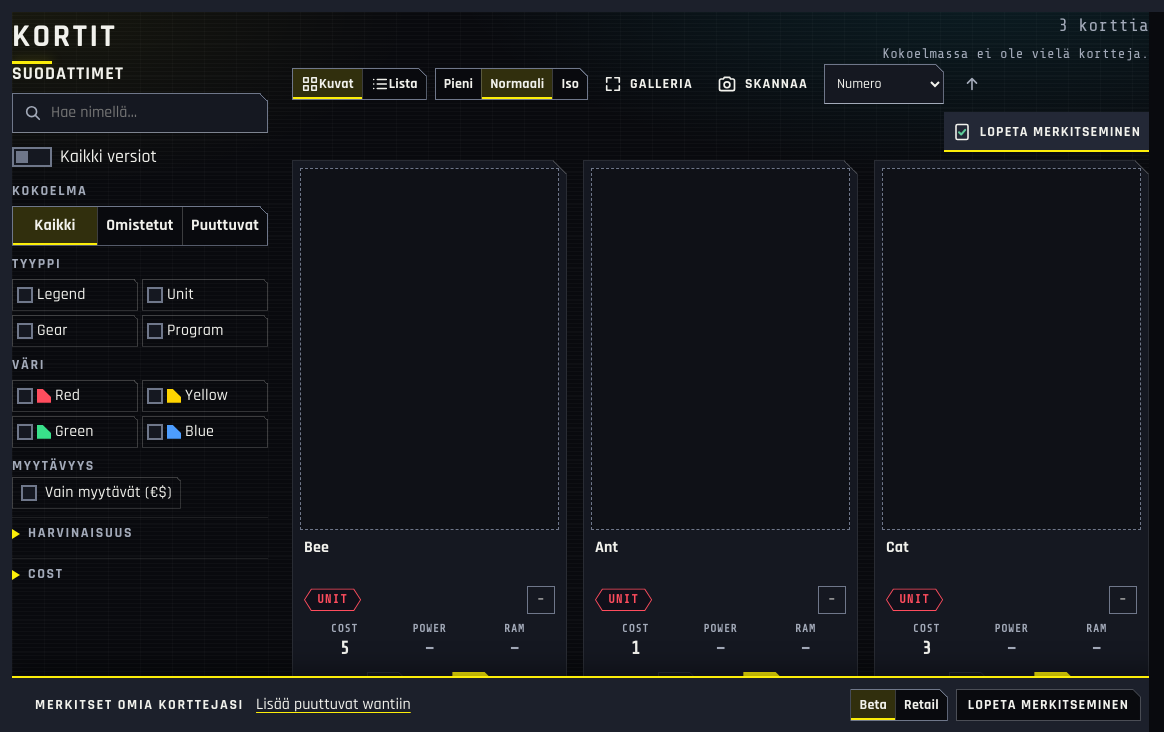
CatalogView card order (T-060) › sorts the grid by the chosen key and direction
Select "Nimi (A–Ö)" in the dropdown named "Järjestys". click: x=884, y=84
box: [824, 64, 944, 104]
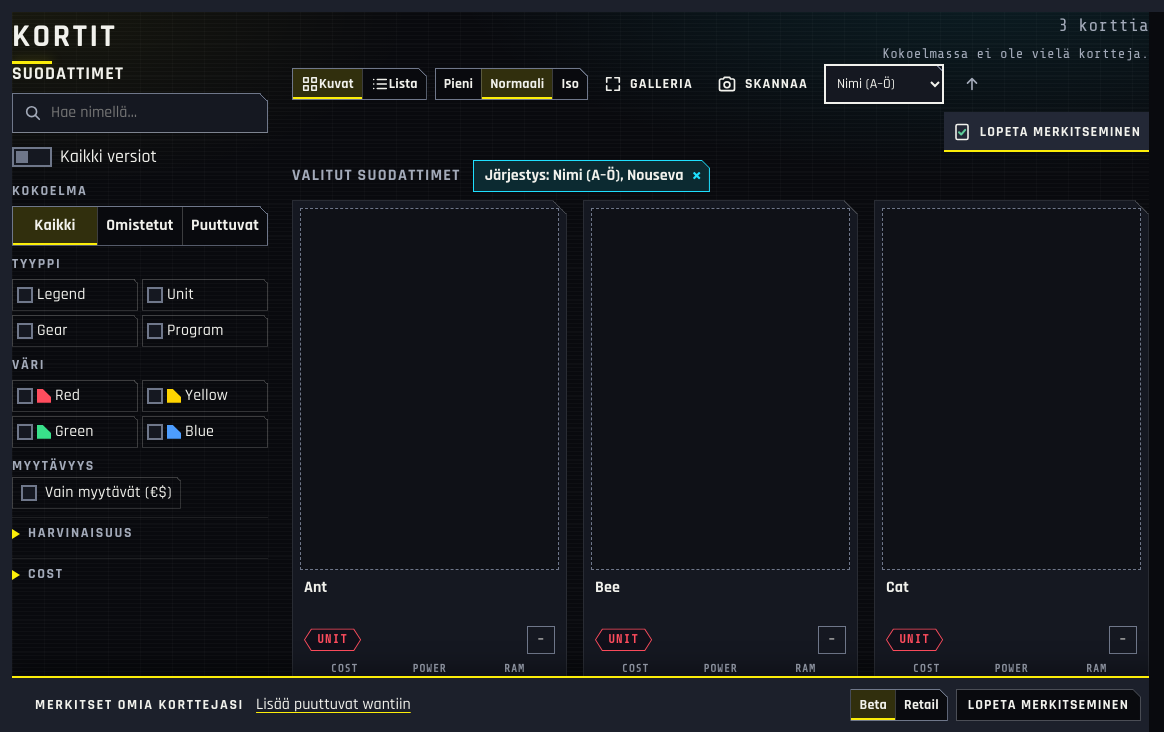
Select "Cost" in the dropdown named "Järjestys". click: x=884, y=84
box: [824, 64, 944, 104]
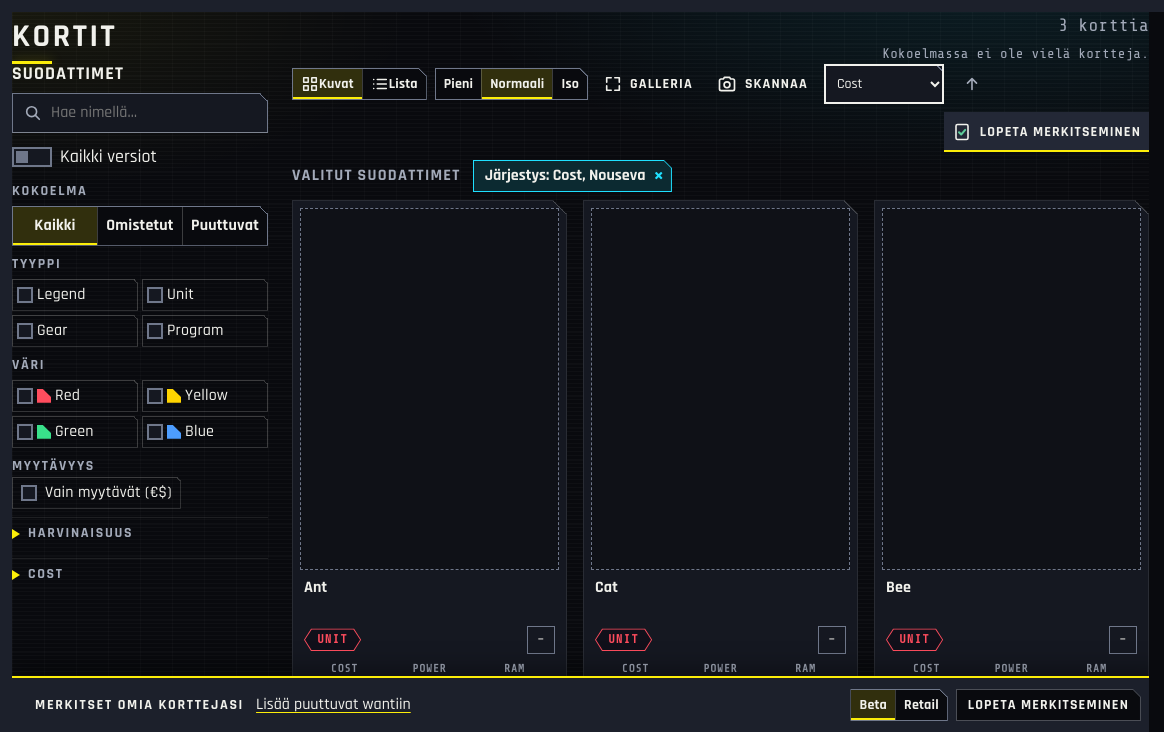
Click the button named "Suunta: Nouseva". click: x=972, y=84
box: [952, 64, 992, 104]
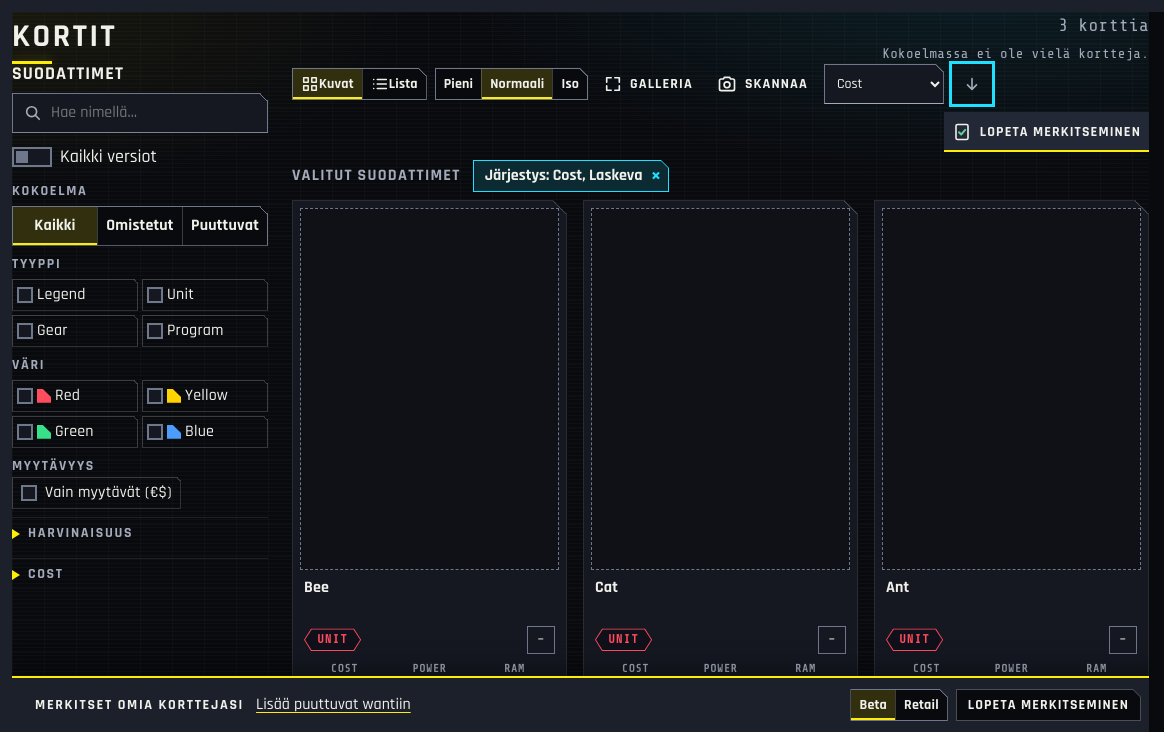
Now the button named "Suunta: Laskeva" is shown, box [952, 64, 992, 104]
